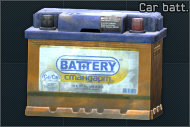Car battery: (0, 0, 190, 127)
